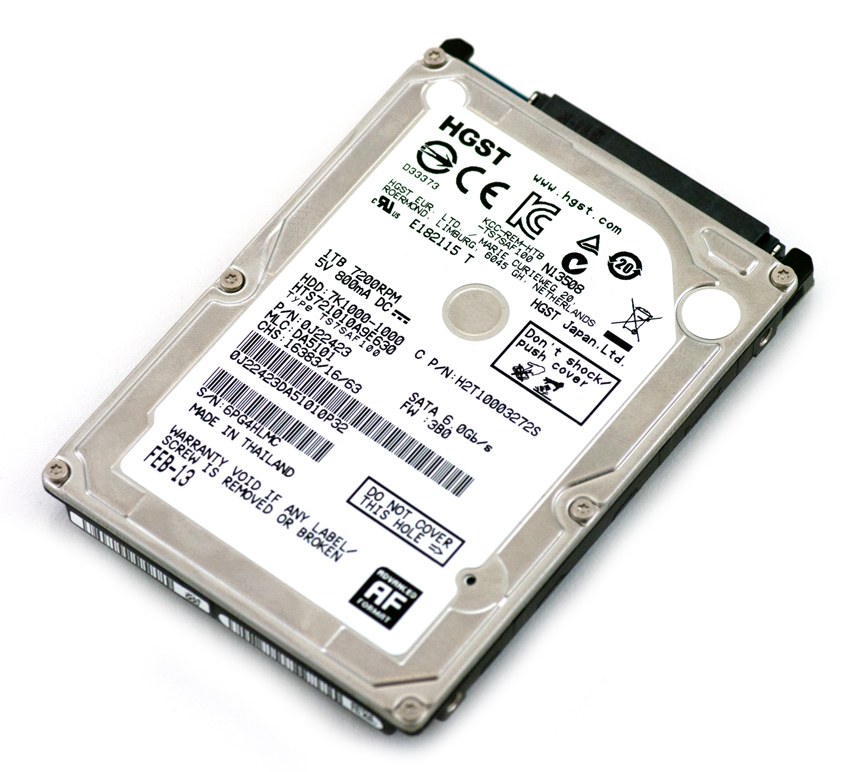2.5" Hard Drive: (22, 26, 832, 747)
